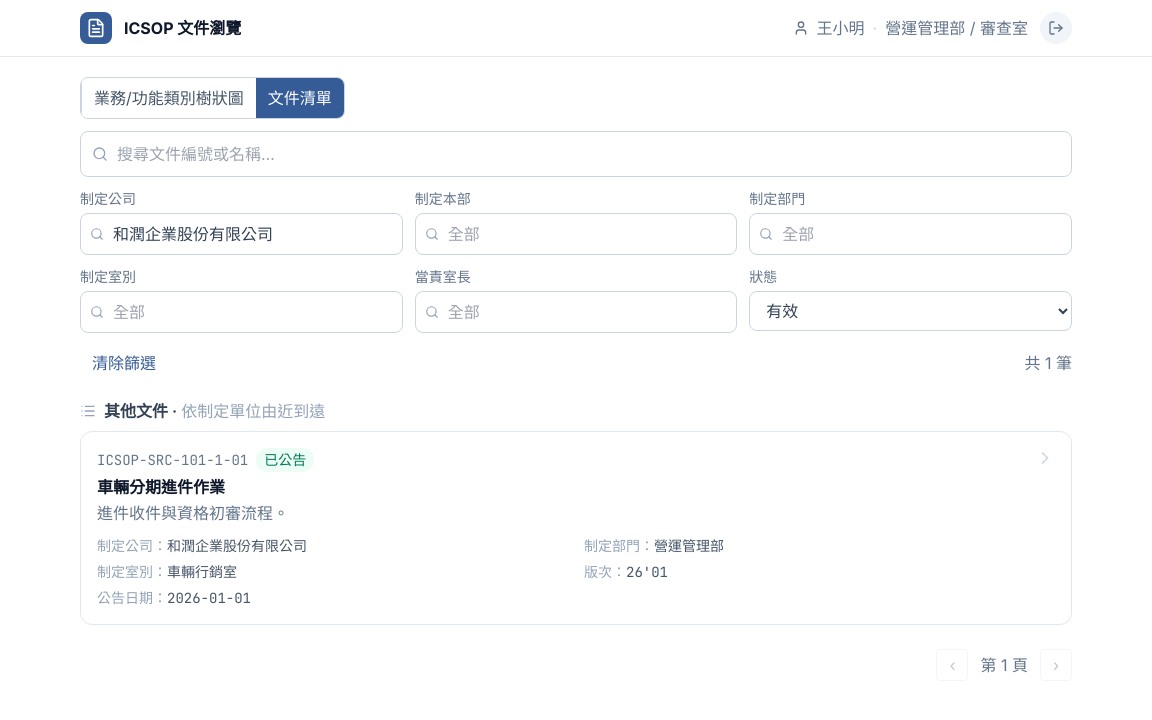
Test: F019 AC-D2：四項為可搜尋下拉、`狀態` 維持原生下拉 › TS-F019-D2-004a 當責室長可**以姓名**搜尋（非員編）
Expected: the heading "車輛分期進件作業" is shown, top-left (97, 477), bottom-right (225, 497)
Click the dropdown labelled "當責室長".
click(576, 312)  # box top-left (415, 291), bottom-right (737, 333)
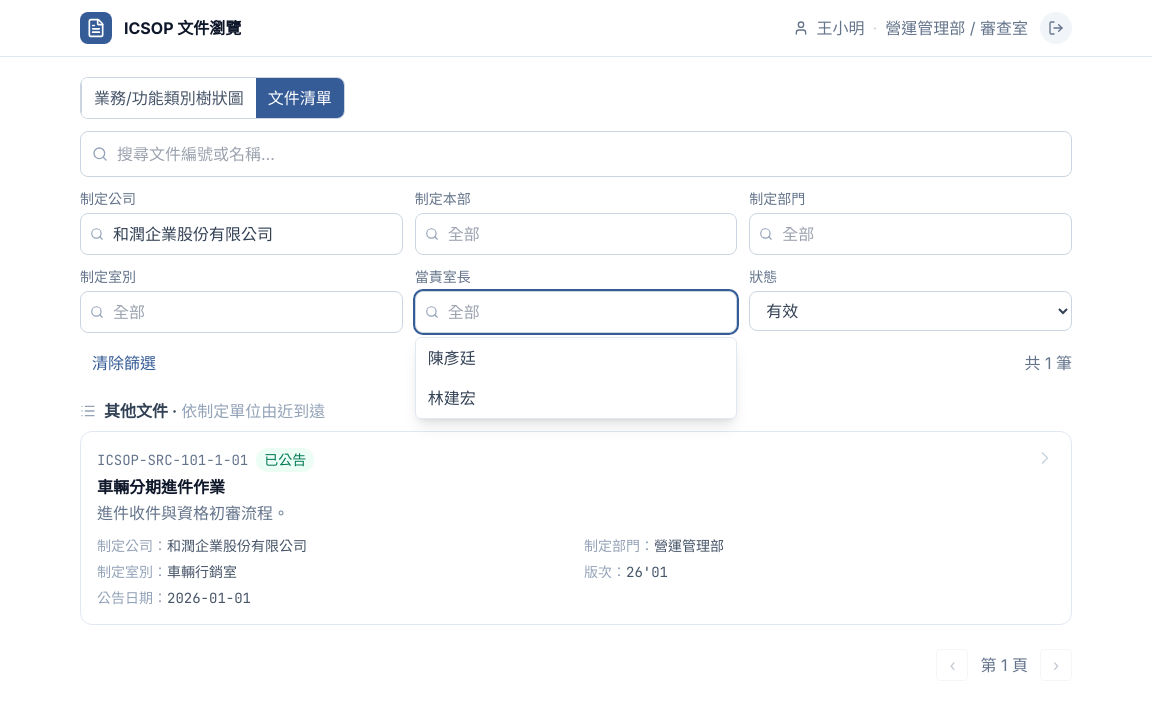
Expected: the option "陳彥廷" is shown, top-left (416, 338), bottom-right (736, 378)
Type "林建" into the dropdown labelled "當責室長".
click(576, 312); type("林建")  # box top-left (415, 291), bottom-right (737, 333)
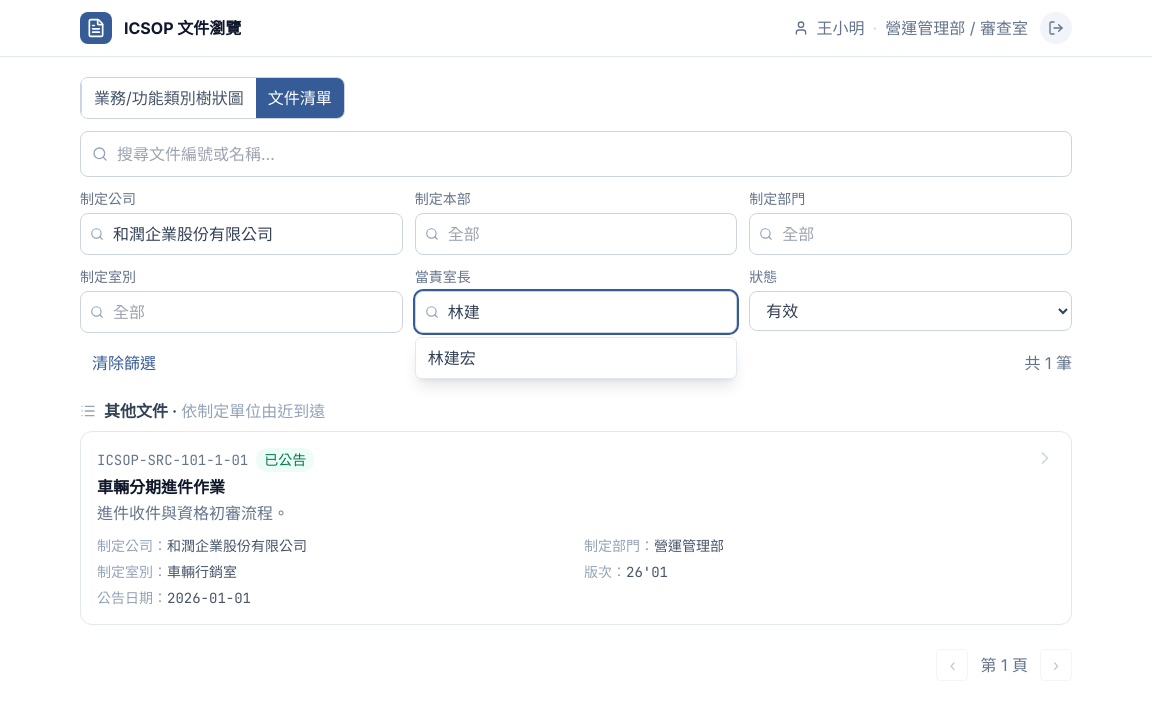
Expected: the option "林建宏" is shown, top-left (416, 338), bottom-right (736, 378)
Expected: the option "陳彥廷" is gone
